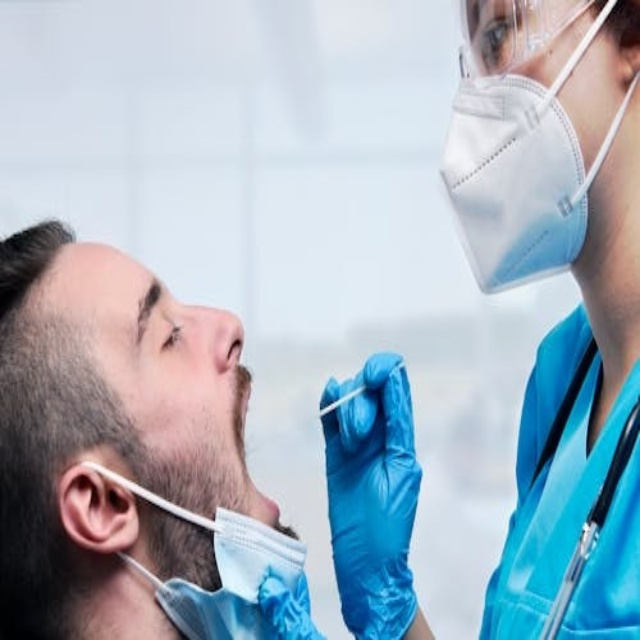Gafas: (453, 0, 611, 84)
Guantes: (320, 350, 423, 640)
Mascara: (438, 65, 613, 288)
Sin_gafas: (133, 258, 189, 398)
Sin_mascara: (221, 361, 294, 525)
